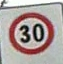limite 30: (7, 10, 54, 54)
